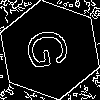G: (25, 25, 79, 72)
